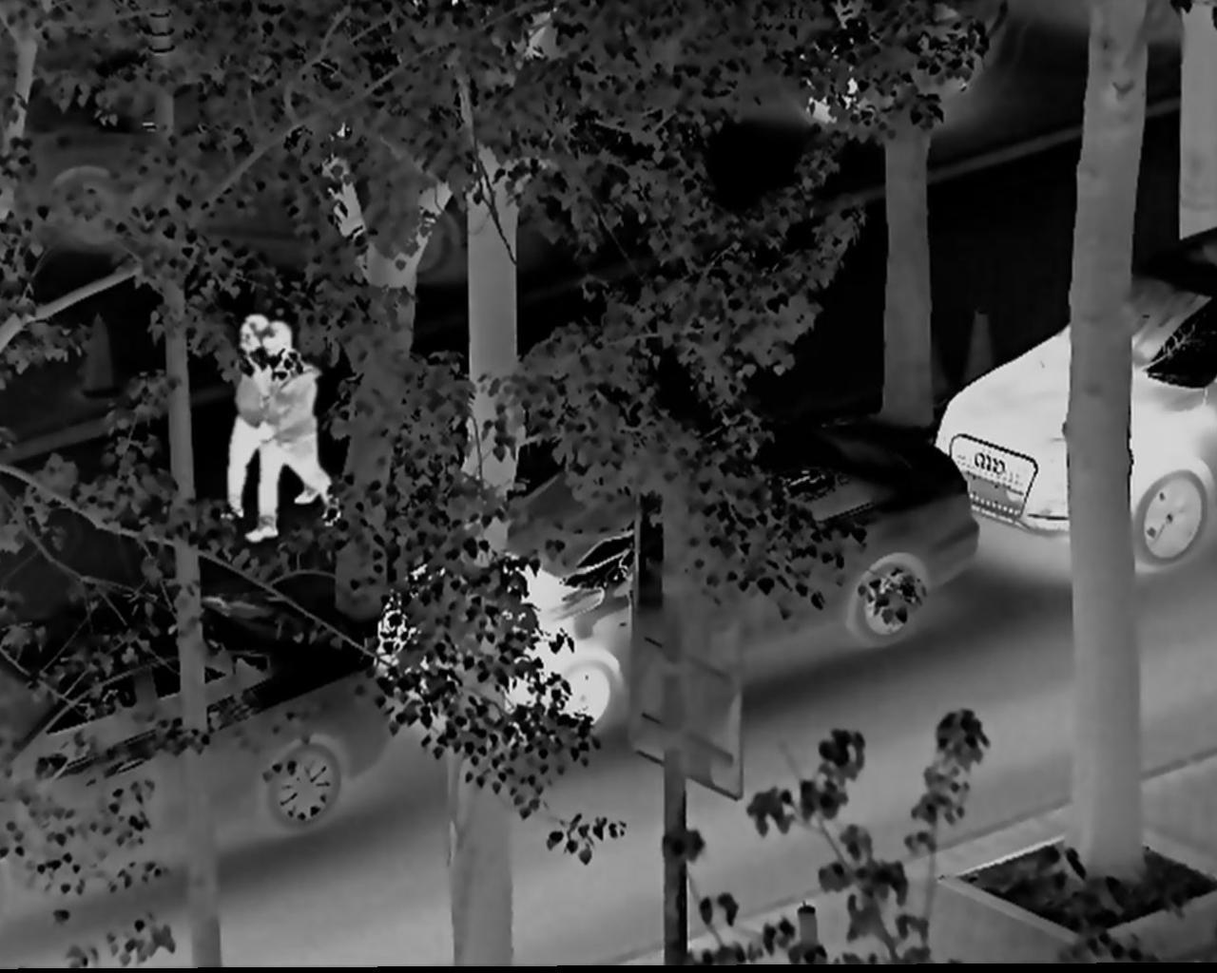person: (253, 317, 343, 539), (208, 306, 280, 532)
